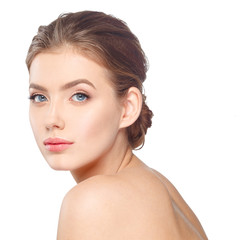young: (19, 10, 142, 170)
